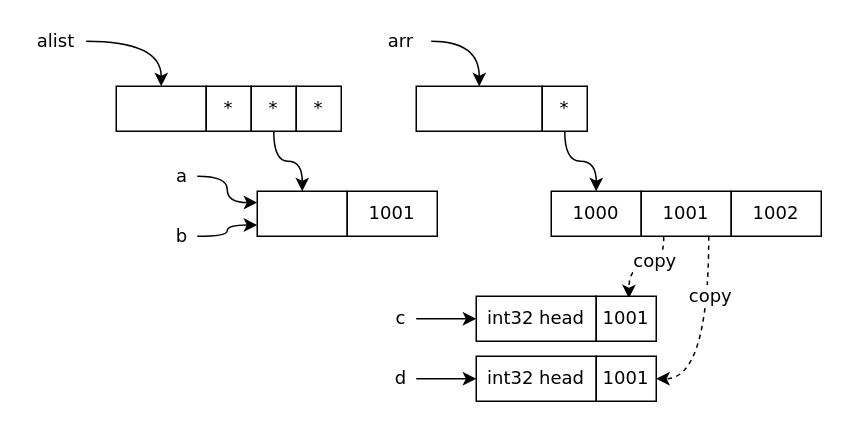
The diagram is 848 pixels wide and 428 high, and some of its shapes have lost their labels. The shapes that lost their labels are listed below. From the top down, each one's centre as x and y in pixels, then its label:
At pixel 160 108: "list head".
At pixel 478 108: "array head".
At pixel 301 213: "int head".
